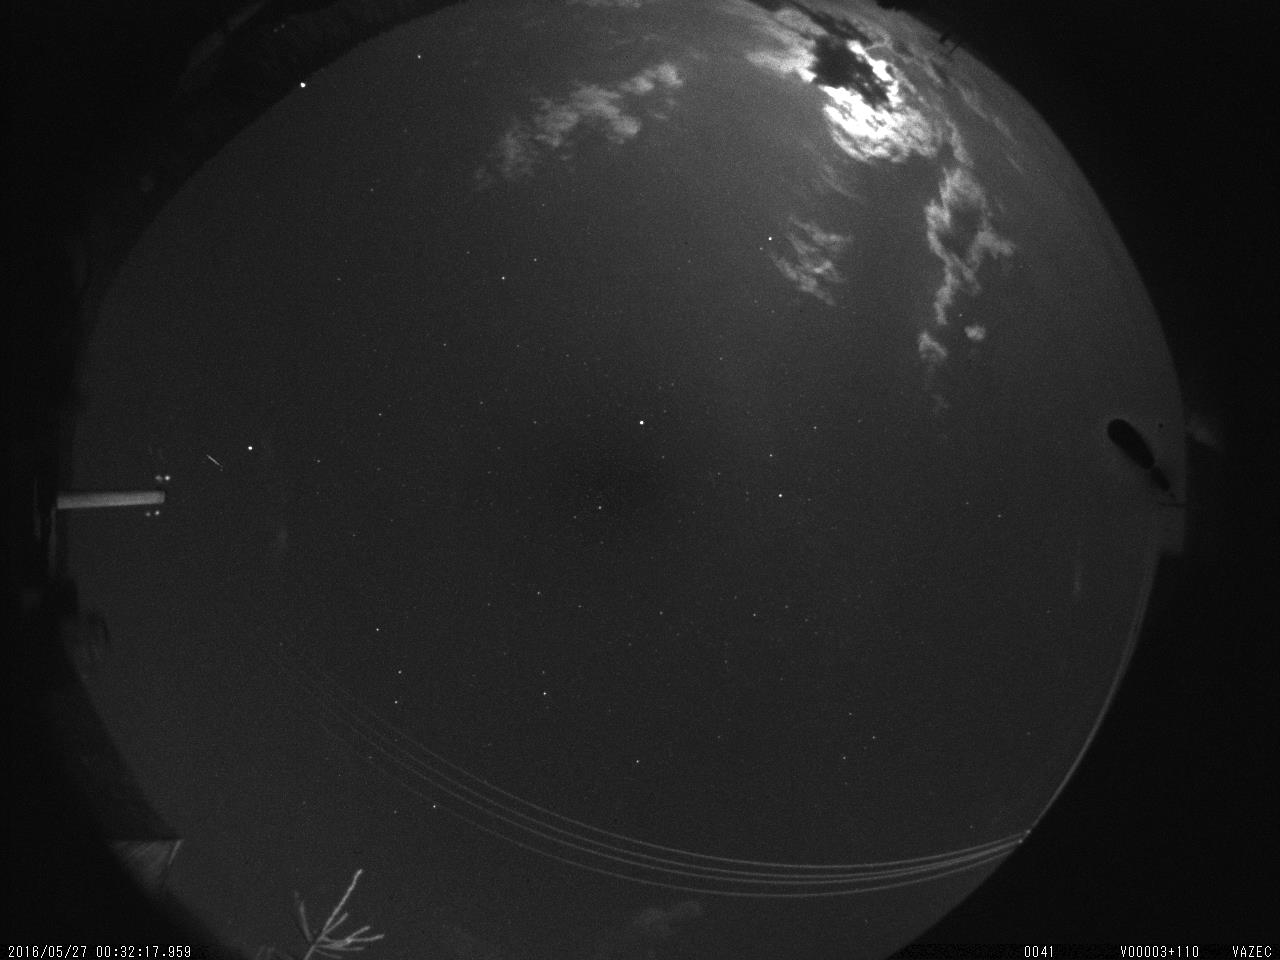meteor: (189, 446, 237, 479)
